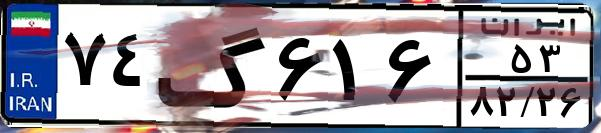1: (330, 28, 385, 110)
2: (495, 70, 520, 125), (535, 70, 560, 125)
3: (537, 27, 568, 80)
4: (110, 28, 156, 98)
5: (508, 27, 537, 80)
6: (270, 28, 330, 110), (385, 28, 445, 110), (560, 70, 590, 125)
7: (57, 26, 110, 100)
8: (470, 70, 495, 125)
گ: (156, 12, 270, 120)
